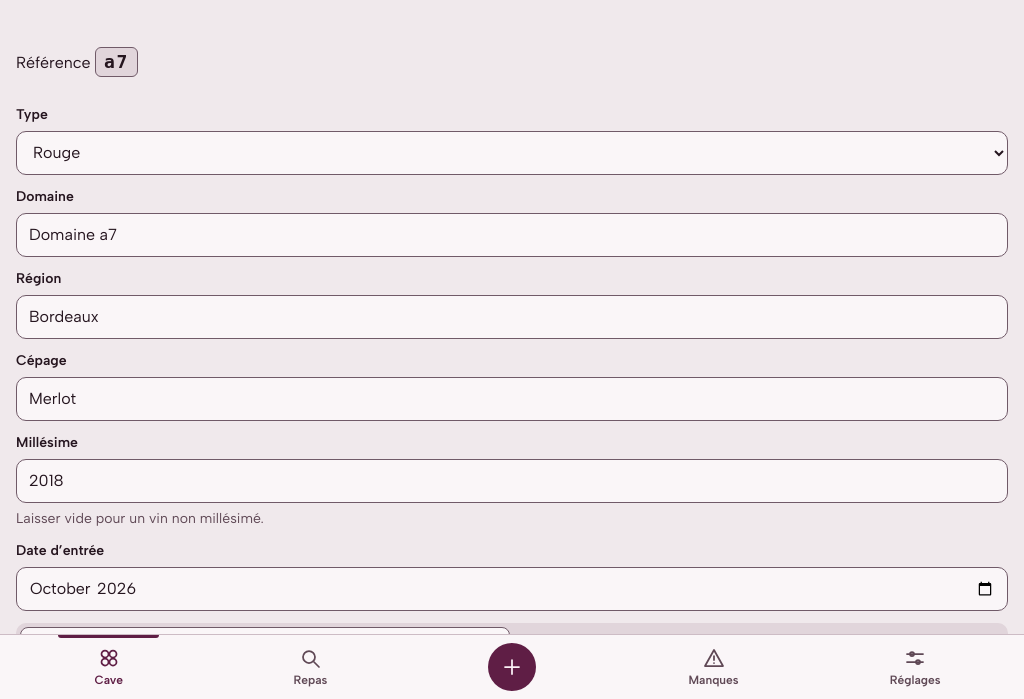
Test: Modifier la fiche (en ligne, contrat §7.3) › millésime hors bornes, date d’entrée absente : refusés avant l’envoi
The width and height of the screenshot is (1024, 699).
Replace the text in the field labelled "Millésime" with "999" at point(512, 480), box [16, 458, 1008, 502]
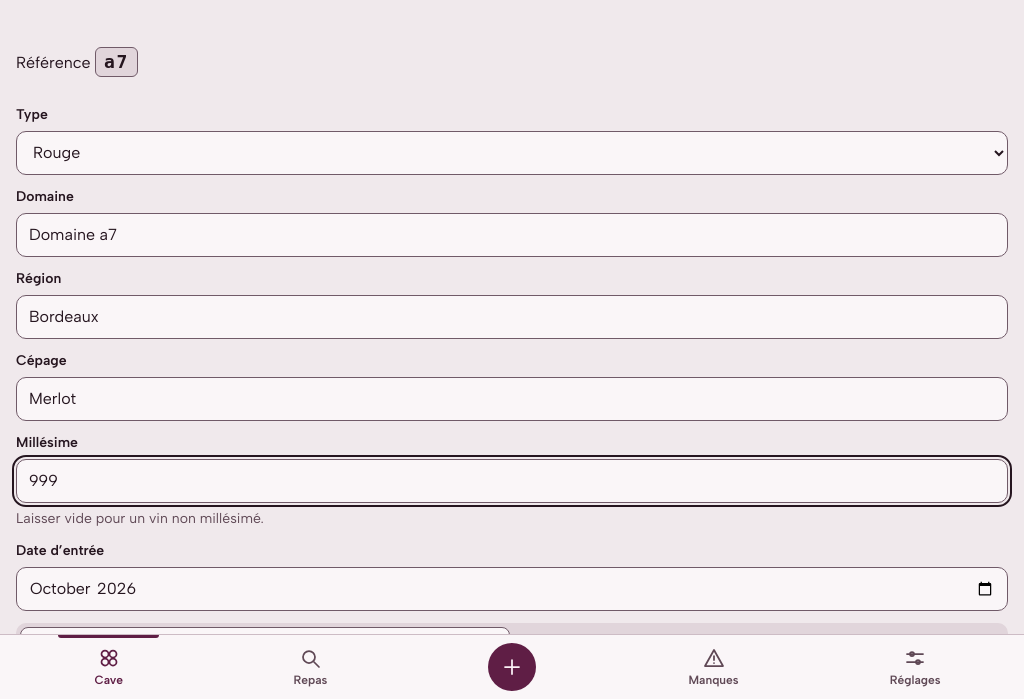
Clear the field labelled "Date d’entrée" at point(512, 588), box [16, 566, 1008, 610]
(page scrolled)
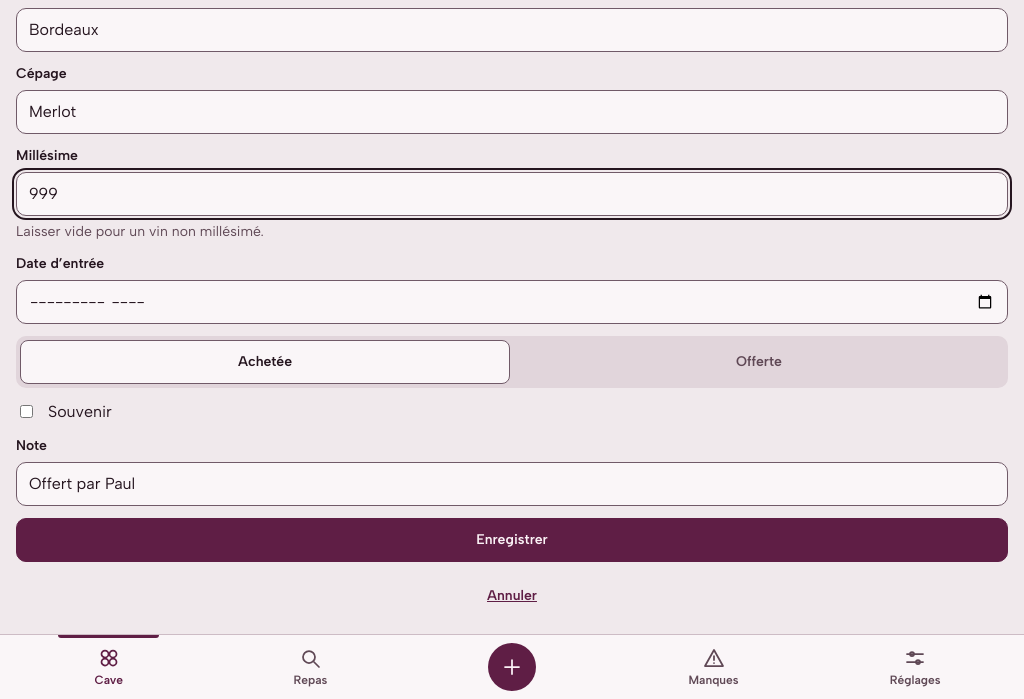
Click the button "Enregistrer" at point(512, 540), box [16, 518, 1008, 562]
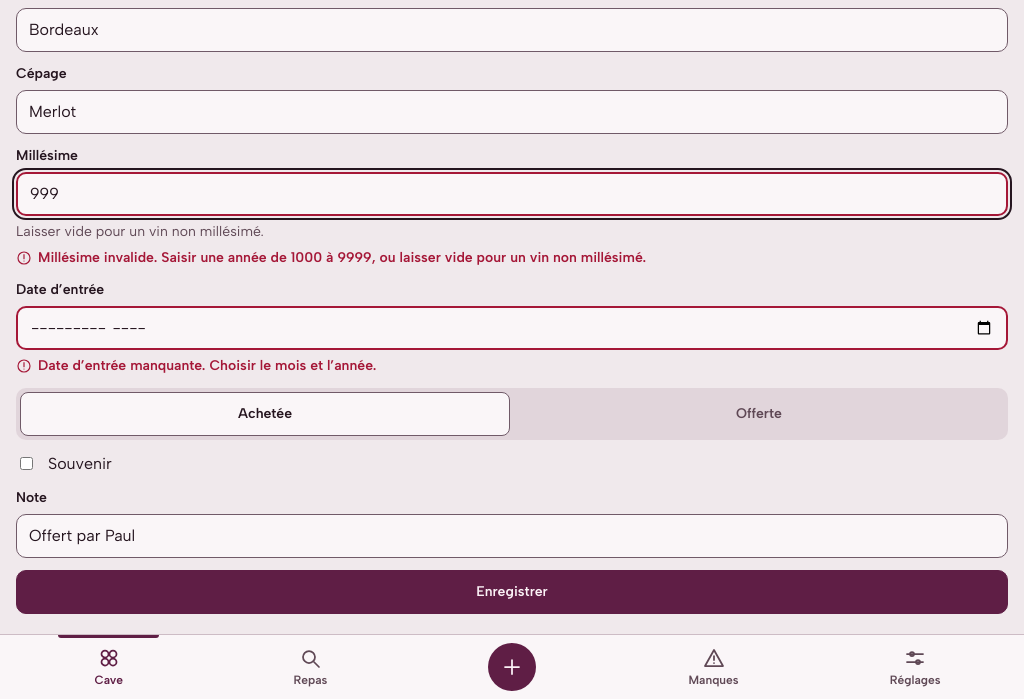
Now the text "Millésime invalide. Saisir une année de 1000 à 9999, ou laisser vide pour un vin non millésimé." is shown, box [38, 248, 646, 266]
Now the text "Date d’entrée manquante. Choisir le mois et l’année." is shown, box [16, 356, 376, 374]
